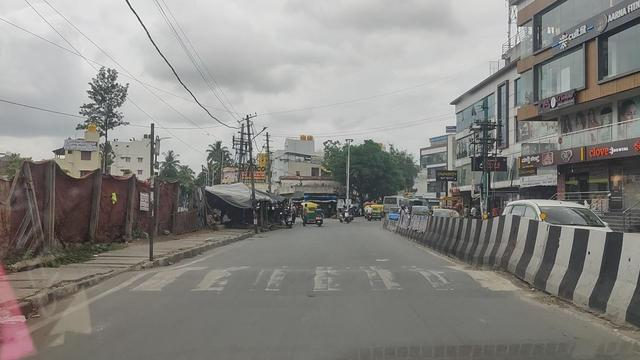SpeedBump: (117, 262, 507, 296)
